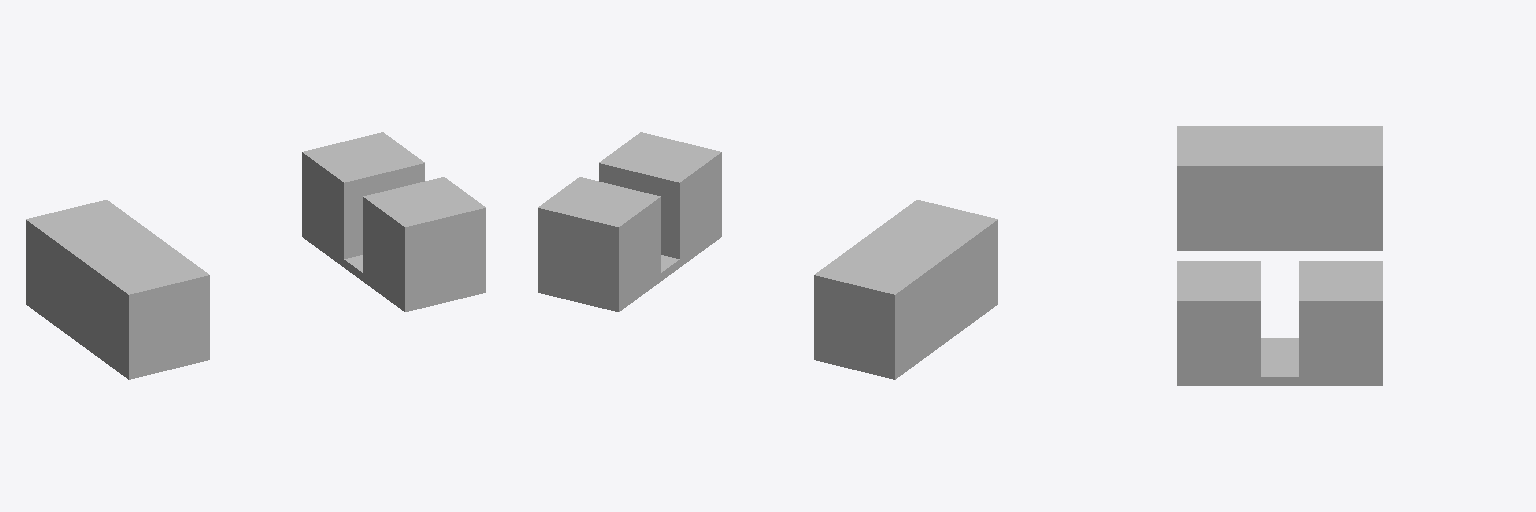
File: DoorWalls Left Filled.obj
The picture shows the model from 3 angles: view 1: azimuth 30°, elevation 25°; view 2: azimuth 150°, elevation 25°; view 3: azimuth 270°, elevation 25°; orthographic projection.
Size of the model in its own units: 44 by 10 by 22.